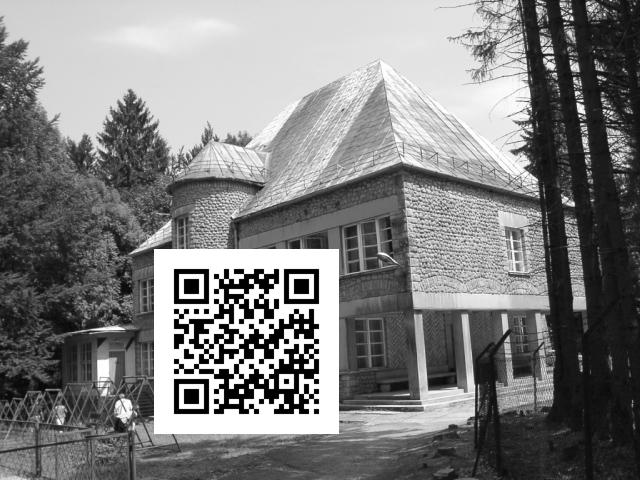qr_code: (163, 255, 333, 426)
